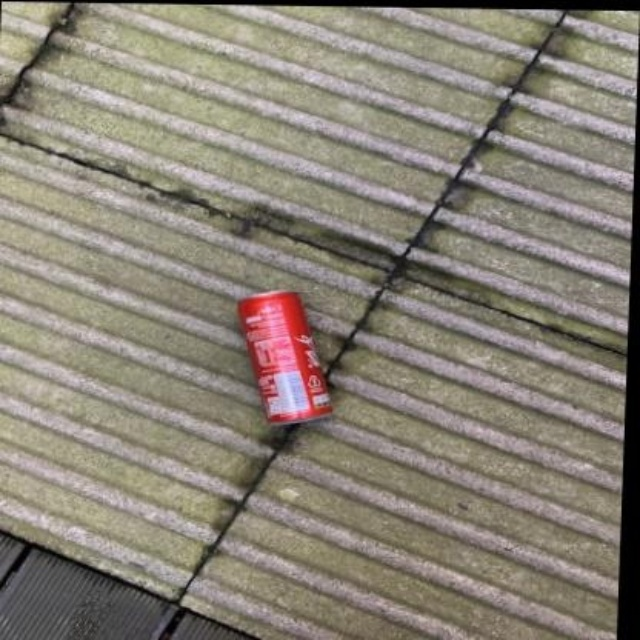trash: (238, 292, 331, 423)
